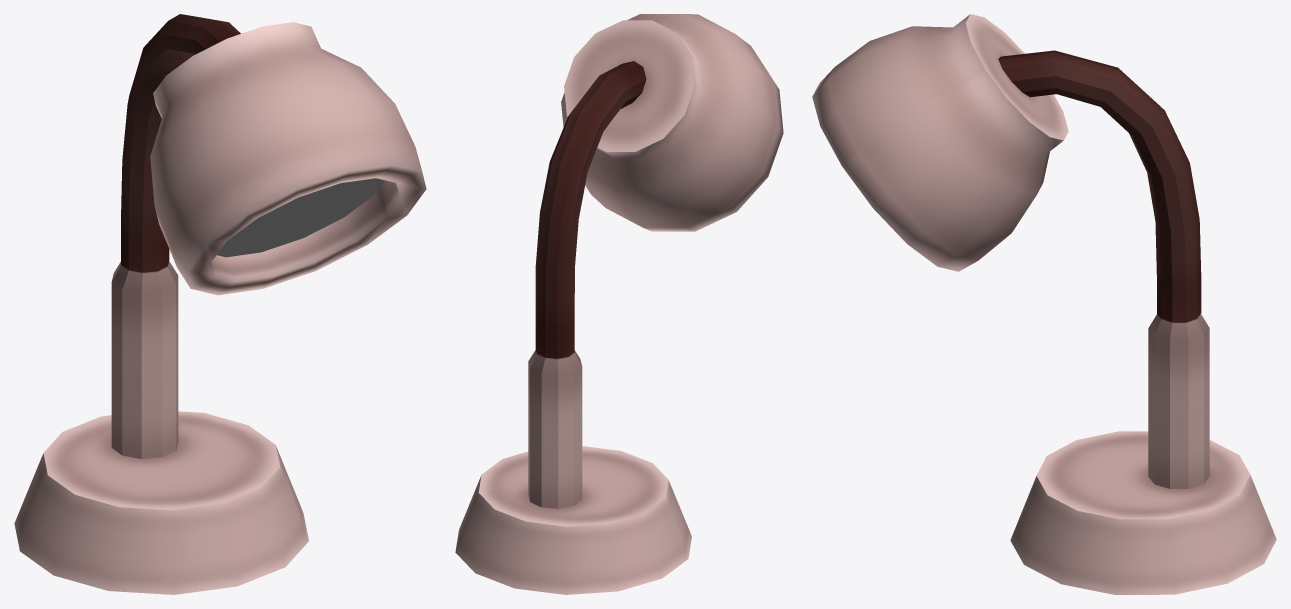
The model's file is small_lamp.fbx.
3 views of the same model, side by side, from view 1: azimuth 30°, elevation 25°; view 2: azimuth 150°, elevation 25°; view 3: azimuth 270°, elevation 25° (orthographic). The views are drawn at different scales.
Parts seen in each view (by area): view 1: Small_lamp_mat, Glass_mat; view 2: Small_lamp_mat; view 3: Small_lamp_mat.
Boxes of the visible parts, <box> form: Small_lamp_mat: <box>14,14,426,594</box>; Glass_mat: <box>217,178,385,257</box>; Small_lamp_mat: <box>455,14,783,594</box>; Small_lamp_mat: <box>812,14,1276,594</box>.
Bounding box in the file's own units: 2.4 × 5.26 × 4.28.
